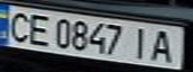0: (51, 16, 72, 50)
4: (87, 20, 109, 55)
7: (103, 21, 130, 56)
8: (69, 18, 90, 52)
A: (148, 27, 184, 64)
C: (3, 8, 33, 43)
E: (24, 11, 54, 47)
I: (127, 25, 157, 61)
